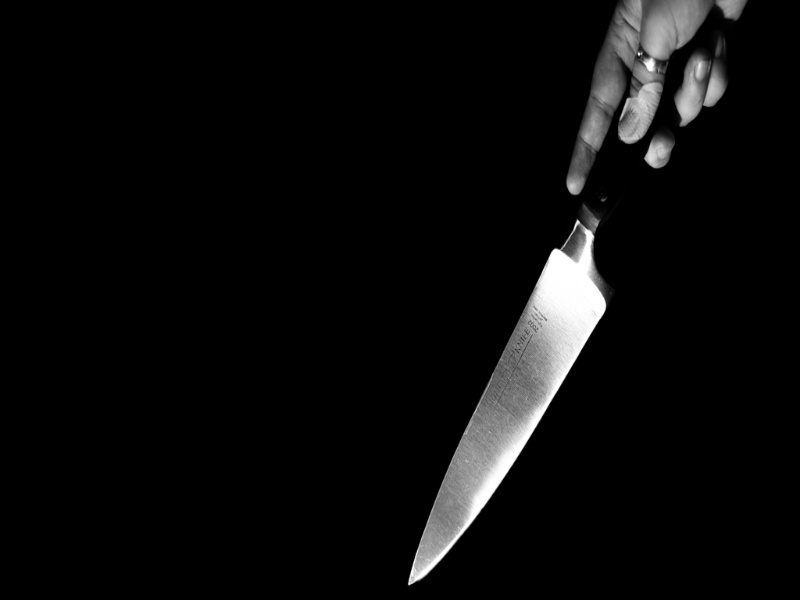knife: (405, 1, 730, 586)
